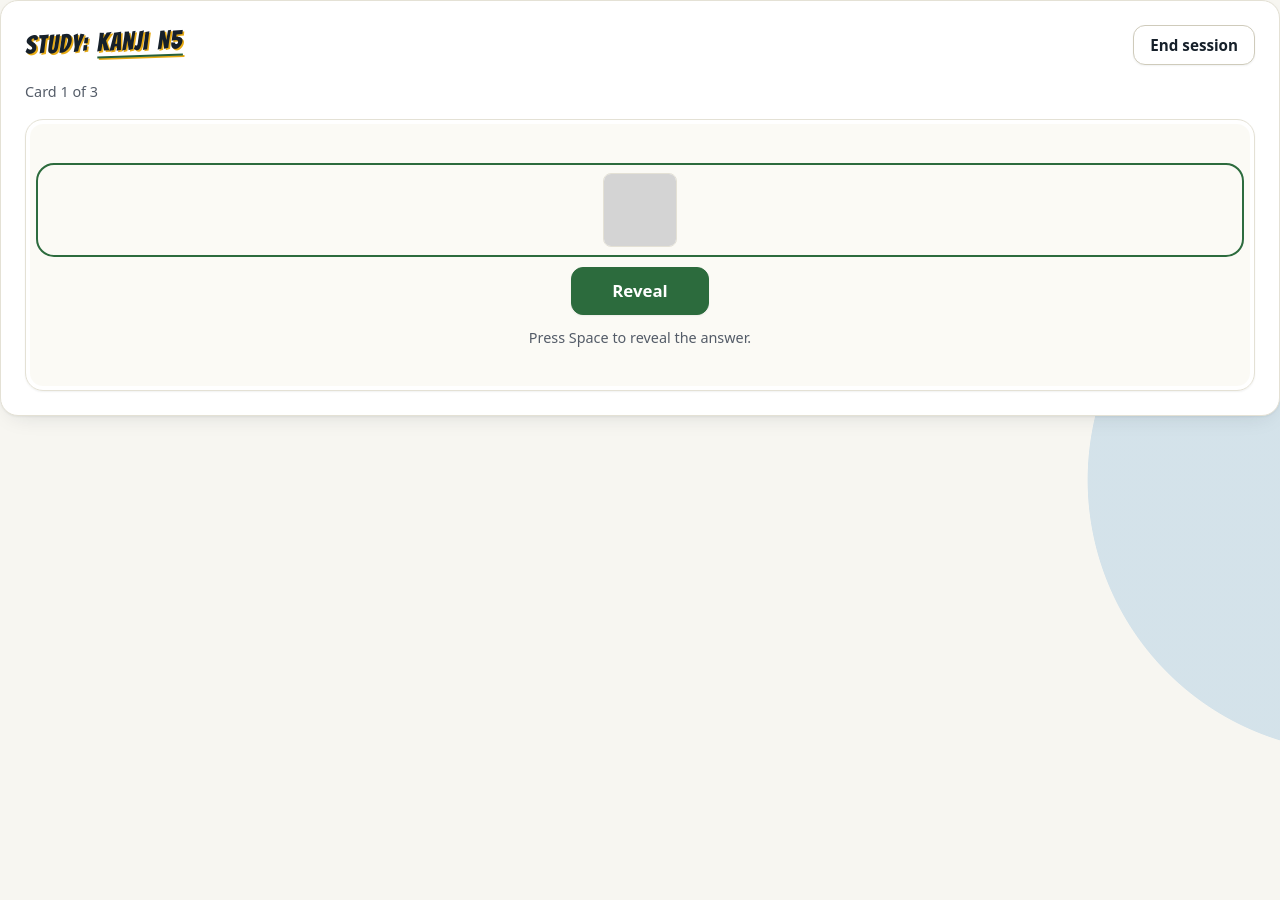
Test: StudyScreen › shows a picture card: the flag on the front, the name once revealed
Expected: the text "Afghanistan" is not shown
Click the button "Reveal".
click(640, 291)  # box [571, 267, 709, 315]
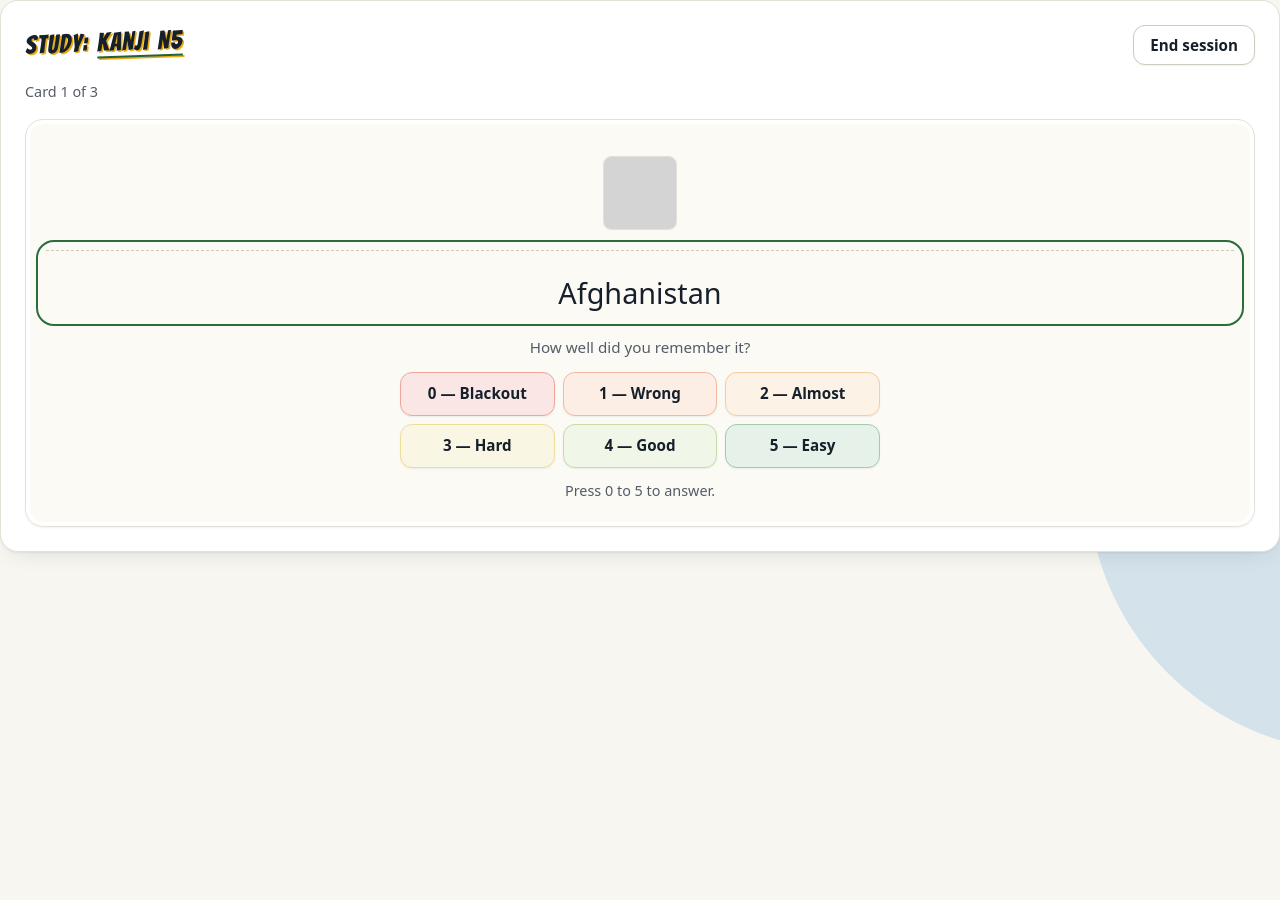
Now the text "Afghanistan" is shown, box [558, 271, 722, 316]
